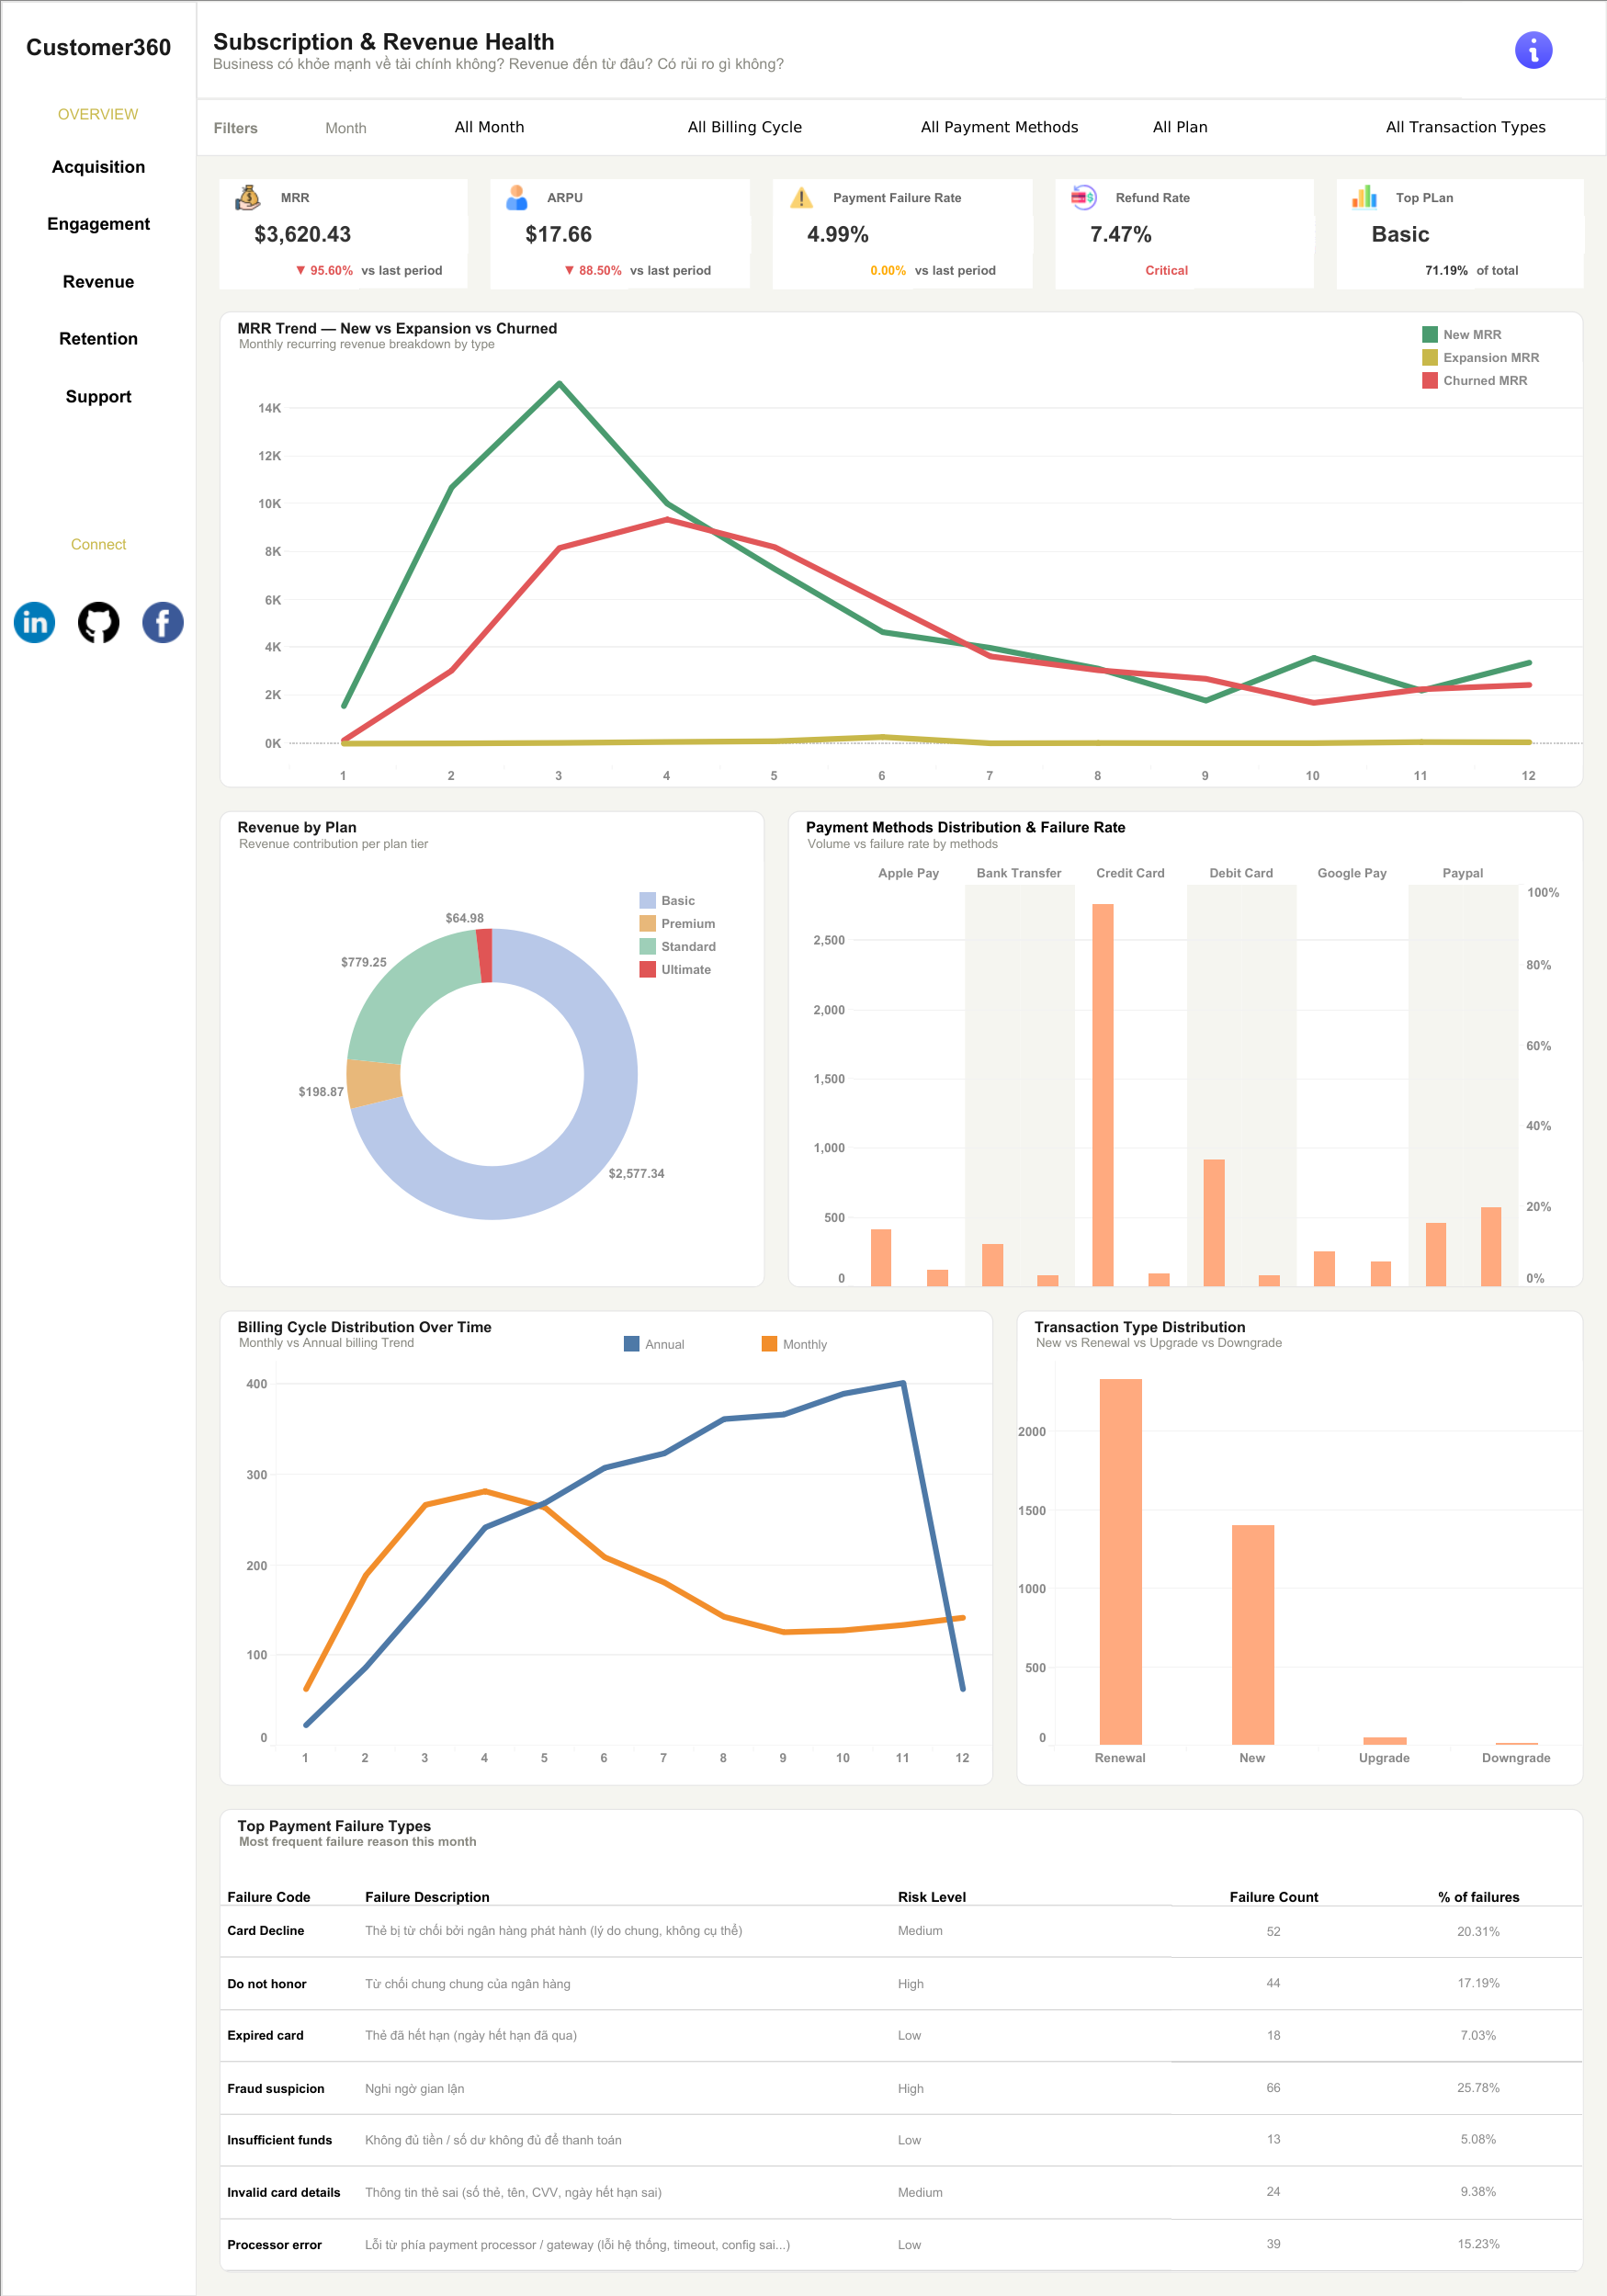

The dashboard page shown, as its layout file describes it:
{"tool":"tableau","page":{"name":"DB revenue","canvas":[1400,2000],"ordinal":3},"visuals":[{"type":"text","box":[2,2,168,77]},{"type":"text","box":[172,2,1101,83]},{"type":"worksheet","title":"revenue info","mark":"Shape","box":[1273,2,125,83]},{"type":"text","box":[2,79,168,41]},{"type":"text","box":[172,87,67,48]},{"type":"text","box":[239,87,125,48]},{"type":"parameter","param":"[Parameters].[Parameter 2]","box":[374,97,202.8,28]},{"type":"parameter","param":"[Parameters].[Parameter 3]","box":[576.8,97,202.8,28]},{"type":"parameter","param":"[Parameters].[Parameter 9]","box":[779.6,97,202.8,28]},{"type":"parameter","param":"[Parameters].[Parameter 8]","box":[982.4,97,202.8,28]},{"type":"parameter","param":"[Parameters].[Parameter 10]","box":[1185.2,97,202.8,28]},{"type":"dashboard-object","box":[2,120,168,50]},{"type":"image","param":"Image/mrr.png","box":[191,156,51,32]},{"type":"text","box":[242,156,165,32]},{"type":"image","param":"Image/arpu.png","box":[427,156,47,32]},{"type":"text","box":[474,156,179,32]},{"type":"image","param":"Image/failure rate.png","box":[673,156,50,32]},{"type":"text","box":[723,156,176,32]},{"type":"image","param":"Image/refund rate.png","box":[919,156,50,32]},{"type":"text","box":[969,156,175,32]},{"type":"image","param":"Image/plan distribution.png","box":[1164,156,49,32]},{"type":"text","box":[1213,156,166,32]},{"type":"dashboard-object","box":[2,170,168,50]},{"type":"worksheet","title":"p3 kpi mrr","mark":"Automatic","box":[191,188,216,32]},{"type":"worksheet","title":"p3 kpi arpu","mark":"Automatic","box":[427,188,226,32]},{"type":"worksheet","title":"p3 kpi failure rate","mark":"Automatic","box":[673,188,226,32]},{"type":"worksheet","title":"p3 kpi refund rate","mark":"Automatic","box":[919,188,225,32]},{"type":"worksheet","title":"p3 kpi top plan","mark":"Automatic","box":[1164,188,215,32]},{"type":"dashboard-object","box":[2,220,168,50]},{"type":"worksheet","title":"p3 kpi mrr change","mark":"Automatic","box":[191,220,121,31]},{"type":"text","box":[312,220,95,31]},{"type":"worksheet","title":"p3 kpi arpu change","mark":"Automatic","box":[427,220,119,31]},{"type":"text","box":[546,220,107,31]},{"type":"worksheet","title":"p3 kpi failure rate change","mark":"Automatic","box":[673,220,121,31]},{"type":"text","box":[794,220,105,31]},{"type":"worksheet","title":"p3 kpi refund rate change","mark":"Automatic","box":[919,220,120,31]},{"type":"blank","box":[1039,220,105,31]},{"type":"worksheet","title":"p3 kpi % of total","mark":"Automatic","box":[1164,220,119,31]},{"type":"text","box":[1283,220,96,31]},{"type":"worksheet","title":"p3 chart mrr trend","mark":"Line","rows":["new_mrr"],"cols":["transaction_month"],"box":[171,261,1228,435]},{"type":"dashboard-object","box":[2,270,168,50]},{"type":"legend","title":"p3 chart mrr trend","param":"[federated.1o53wdu0wva7gf1ay8h2x1fexrit].[:Measure Names]","box":[1235,281,140,68]},{"type":"dashboard-object","box":[2,320,168,50]},{"type":"blank","box":[2,370,168,63]},{"type":"text","box":[2,433,168,80]},{"type":"image","param":"Image/linkedin.png","box":[2,513,56,58]},{"type":"image","param":"Image/github.png","box":[58,513,56,58]},{"type":"image","param":"Image/facebook.png","box":[114,513,56,58]},{"type":"blank","box":[2,571,168,1427]},{"type":"worksheet","title":"p3 chart revenue by plan","mark":"Pie","rows":["Calculation_0577020312436744","Calculation_0577020312436744"],"box":[171,696,505,435]},{"type":"worksheet","title":"p3 chart payment method vs failure rate","mark":"Bar","rows":["Calculation_0471185891274768"],"cols":["payment_method"],"box":[676,696,723,435]},{"type":"legend","title":"p3 chart revenue by plan","param":"[federated.1o53wdu0wva7gf1ay8h2x1fexrit].[none:plan_name:nk]","box":[554,774,103,84]},{"type":"worksheet","title":"p3 chart billing cycle distribution over time","mark":"Line","rows":["transaction_count"],"cols":["transaction_month"],"box":[171,1131,703.9,434]},{"type":"worksheet","title":"p3 chart status distribution","mark":"Bar","rows":["Calculation_0289217105043461"],"cols":["transaction_type"],"box":[874.9,1131,524,434]},{"type":"legend","title":"p3 chart billing cycle distribution over time","param":"[federated.1o53wdu0wva7gf1ay8h2x1fexrit].[none:billing_cycle:nk]","box":[540,1160,242,28]},{"type":"worksheet","title":"p3 chart top payment failure type","mark":"Automatic","rows":["failure_code","Calculation_0471185939922979","Calculation_0471185940836388"],"box":[171,1565,1228,434]}]}

Visuals, with their boxes in screenshot pixels (x1, y1, x2, y2), scaled from the page's 1400x2000 canvas onto the 1607x2296 screenshot:
text: locate(2, 2, 195, 91)
text: locate(198, 2, 1461, 97)
"revenue info" worksheet (Shape marks): locate(1461, 2, 1605, 97)
text: locate(2, 91, 195, 138)
text: locate(198, 100, 275, 155)
text: locate(275, 100, 418, 155)
parameter: locate(429, 111, 662, 143)
parameter: locate(662, 111, 895, 143)
parameter: locate(895, 111, 1127, 143)
parameter: locate(1127, 111, 1361, 143)
parameter: locate(1361, 111, 1593, 143)
dashboard-object: locate(2, 138, 195, 195)
image: locate(220, 179, 277, 216)
text: locate(277, 179, 467, 216)
image: locate(490, 179, 544, 216)
text: locate(544, 179, 750, 216)
image: locate(773, 179, 830, 216)
text: locate(830, 179, 1032, 216)
image: locate(1055, 179, 1113, 216)
text: locate(1113, 179, 1313, 216)
image: locate(1336, 179, 1392, 216)
text: locate(1392, 179, 1583, 216)
dashboard-object: locate(2, 195, 195, 253)
"p3 kpi mrr" worksheet: locate(220, 216, 467, 253)
"p3 kpi arpu" worksheet: locate(490, 216, 750, 253)
"p3 kpi failure rate" worksheet: locate(773, 216, 1032, 253)
"p3 kpi refund rate" worksheet: locate(1055, 216, 1313, 253)
"p3 kpi top plan" worksheet: locate(1336, 216, 1583, 253)
dashboard-object: locate(2, 253, 195, 310)
"p3 kpi mrr change" worksheet: locate(220, 253, 358, 288)
text: locate(358, 253, 467, 288)
"p3 kpi arpu change" worksheet: locate(490, 253, 627, 288)
text: locate(627, 253, 750, 288)
"p3 kpi failure rate change" worksheet: locate(773, 253, 911, 288)
text: locate(911, 253, 1032, 288)
"p3 kpi refund rate change" worksheet: locate(1055, 253, 1193, 288)
blank: locate(1193, 253, 1313, 288)
"p3 kpi % of total" worksheet: locate(1336, 253, 1473, 288)
text: locate(1473, 253, 1583, 288)
"p3 chart mrr trend" worksheet (Line marks): locate(197, 300, 1606, 799)
dashboard-object: locate(2, 310, 195, 368)
"p3 chart mrr trend" legend: locate(1418, 322, 1579, 401)
dashboard-object: locate(2, 368, 195, 424)
blank: locate(2, 424, 195, 497)
text: locate(2, 497, 195, 589)
image: locate(2, 589, 66, 655)
image: locate(66, 589, 130, 655)
image: locate(130, 589, 195, 655)
blank: locate(2, 655, 195, 2294)
"p3 chart revenue by plan" worksheet (Pie marks): locate(197, 799, 776, 1298)
"p3 chart payment method vs failure rate" worksheet (Bar marks): locate(776, 799, 1606, 1298)
"p3 chart revenue by plan" legend: locate(636, 888, 754, 985)
"p3 chart billing cycle distribution over time" worksheet (Line marks): locate(197, 1298, 1004, 1796)
"p3 chart status distribution" worksheet (Bar marks): locate(1004, 1298, 1606, 1796)
"p3 chart billing cycle distribution over time" legend: locate(620, 1331, 898, 1363)
"p3 chart top payment failure type" worksheet: locate(197, 1796, 1606, 2295)
